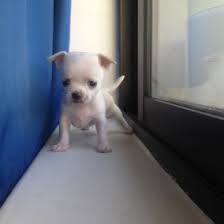chihuahua: (25, 33, 141, 163)
